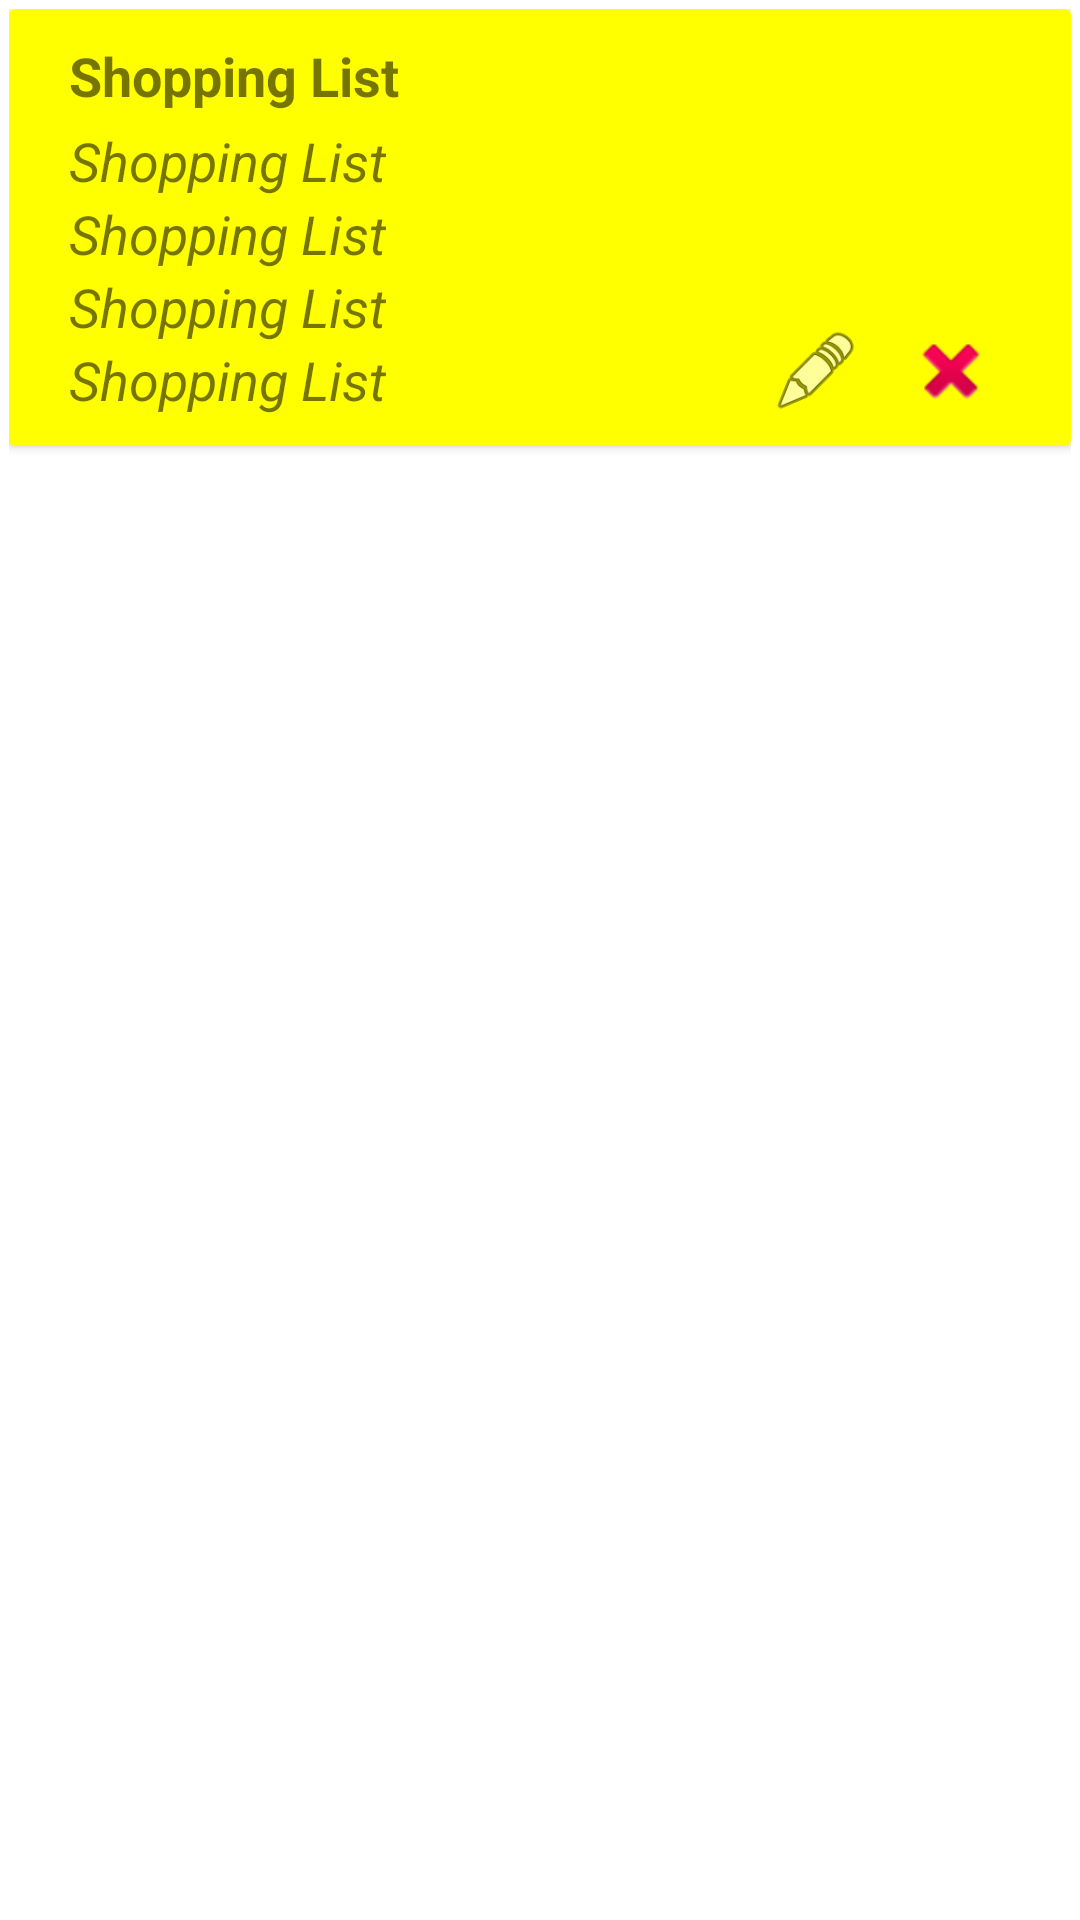

Where to tap for icons on this 1080px x 1920px app screen, as (x,y):
delete: (951,371)
edit: (815,370)
